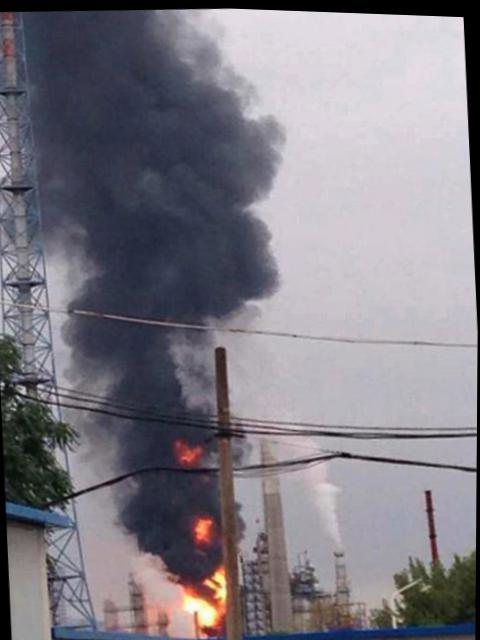fire: (186, 593, 228, 627), (205, 561, 226, 603), (172, 437, 203, 464), (189, 513, 216, 541)
